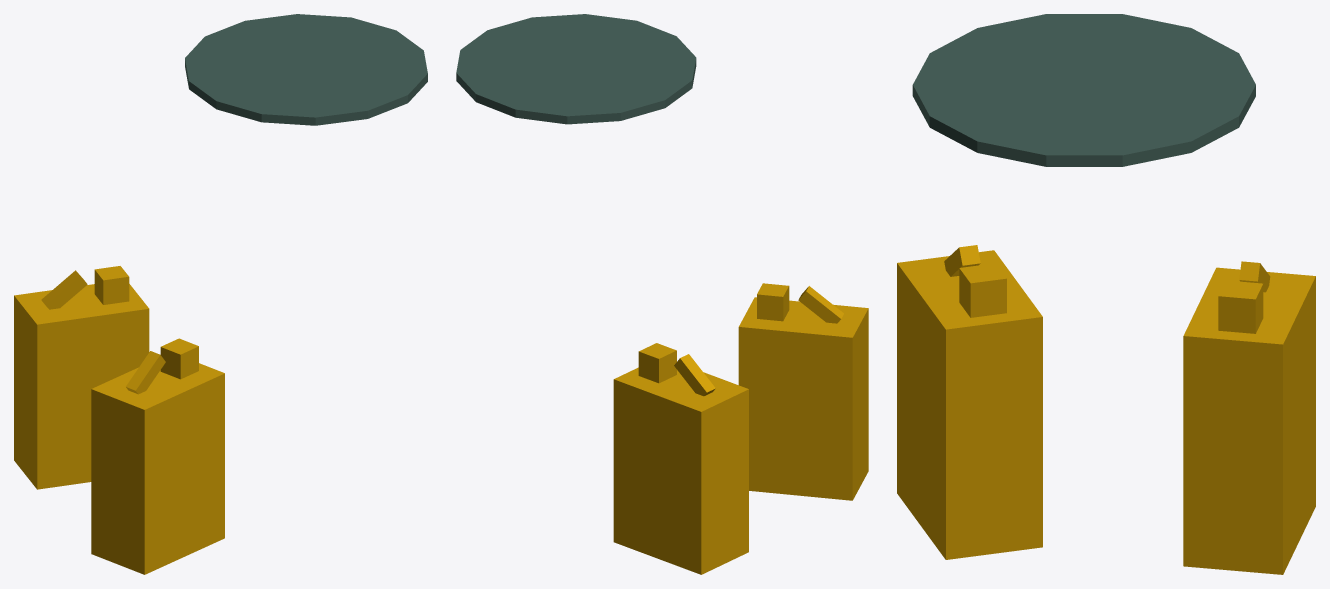
The model's file is prop_drum-water.glb.
3 renders of one model, left to right at view 1: azimuth 30°, elevation 25°; view 2: azimuth 150°, elevation 25°; view 3: azimuth 270°, elevation 25°, orthographic. The views are drawn at different scales.
Visible parts, largest first — view 1: body; view 2: body; view 3: body.
Boxes of the visible parts, box(x1,y1,x2,y2) form: body: box(14, 14, 427, 574); body: box(456, 14, 868, 574); body: box(897, 14, 1315, 574).
Bounding box in the file's own units: 0.8911 × 0.98 × 0.6591.
